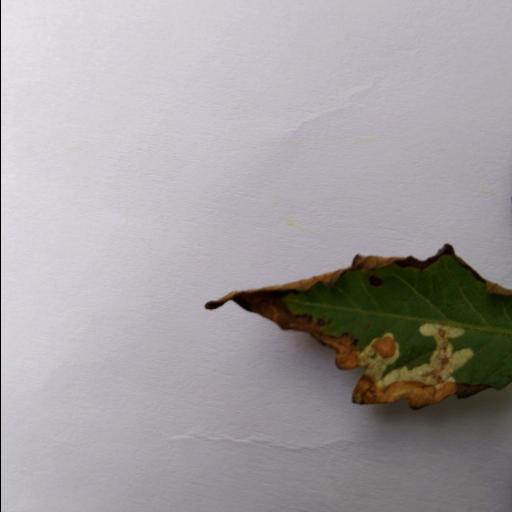Leaf Miner: (232, 242, 512, 410)
